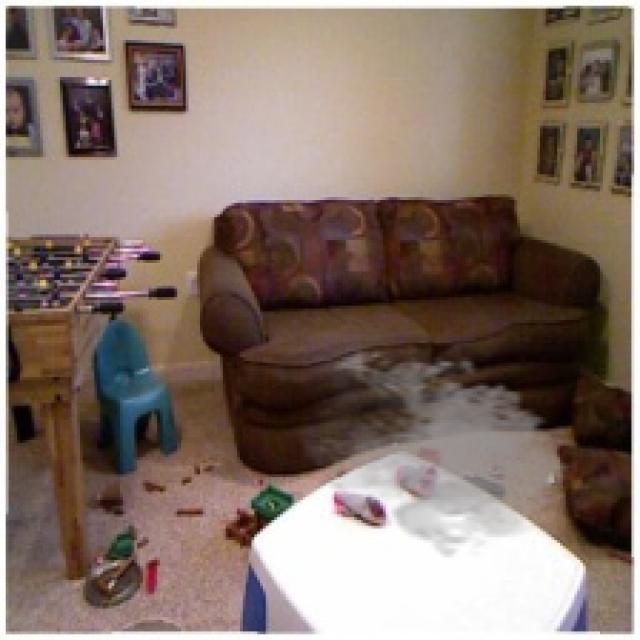Smoke: (294, 346, 577, 560)
